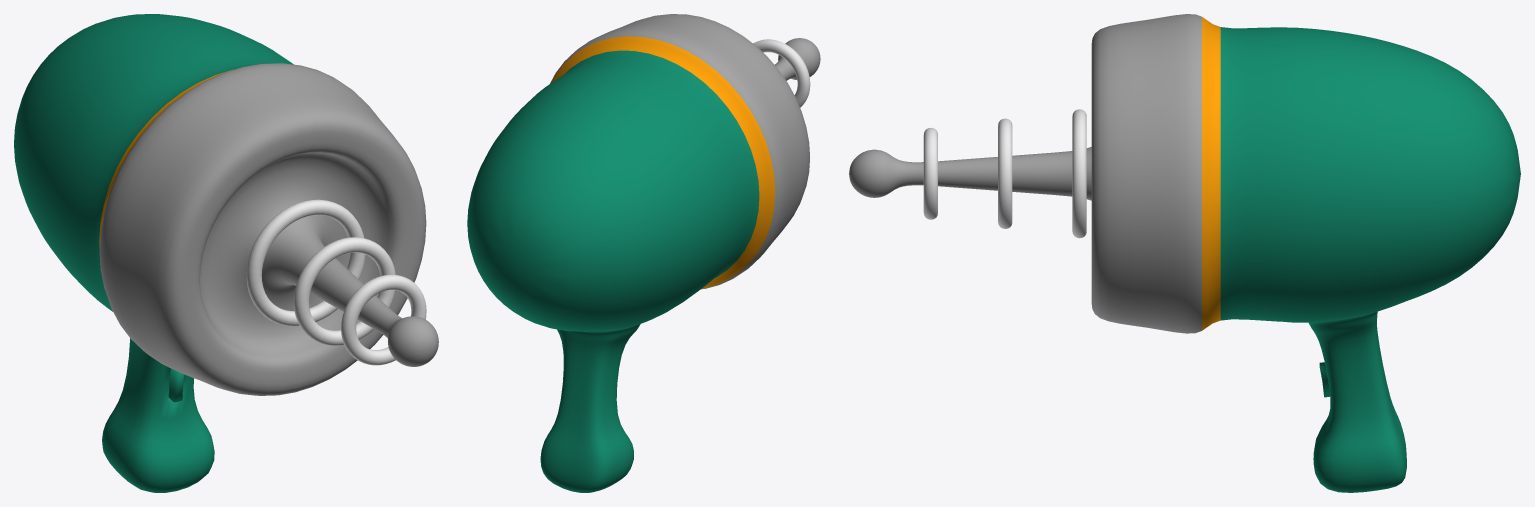
File: laser gun.glb
3 renders of one model, left to right at view 1: azimuth 30°, elevation 25°; view 2: azimuth 150°, elevation 25°; view 3: azimuth 270°, elevation 25°, orthographic. The views are drawn at different scales.
Parts seen in each view (by area): view 1: Sphere; view 2: Sphere; view 3: Sphere.
Boxes of the visible parts, box(x1,y1,x2,y2) form: Sphere: box(14, 14, 438, 492); Sphere: box(467, 14, 820, 492); Sphere: box(849, 14, 1520, 492).
Size of the model in its own units: 0.2312 by 0.3646 by 0.4856.
